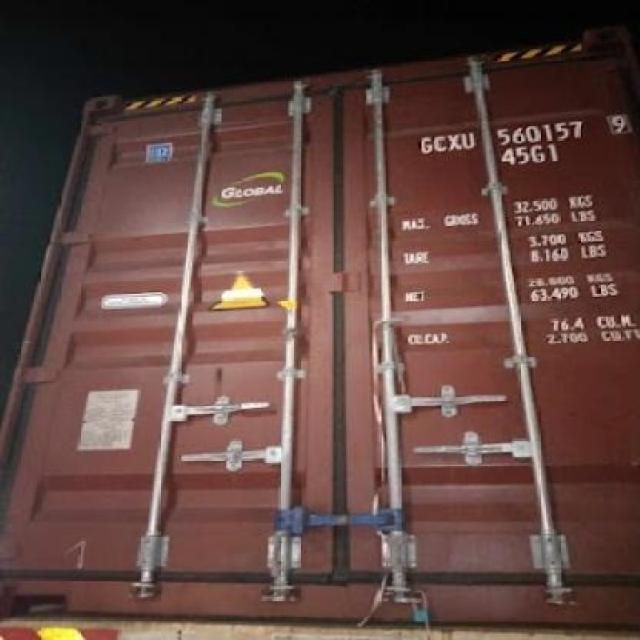ISO: (494, 144, 560, 167)
container_number: (416, 110, 624, 156)
